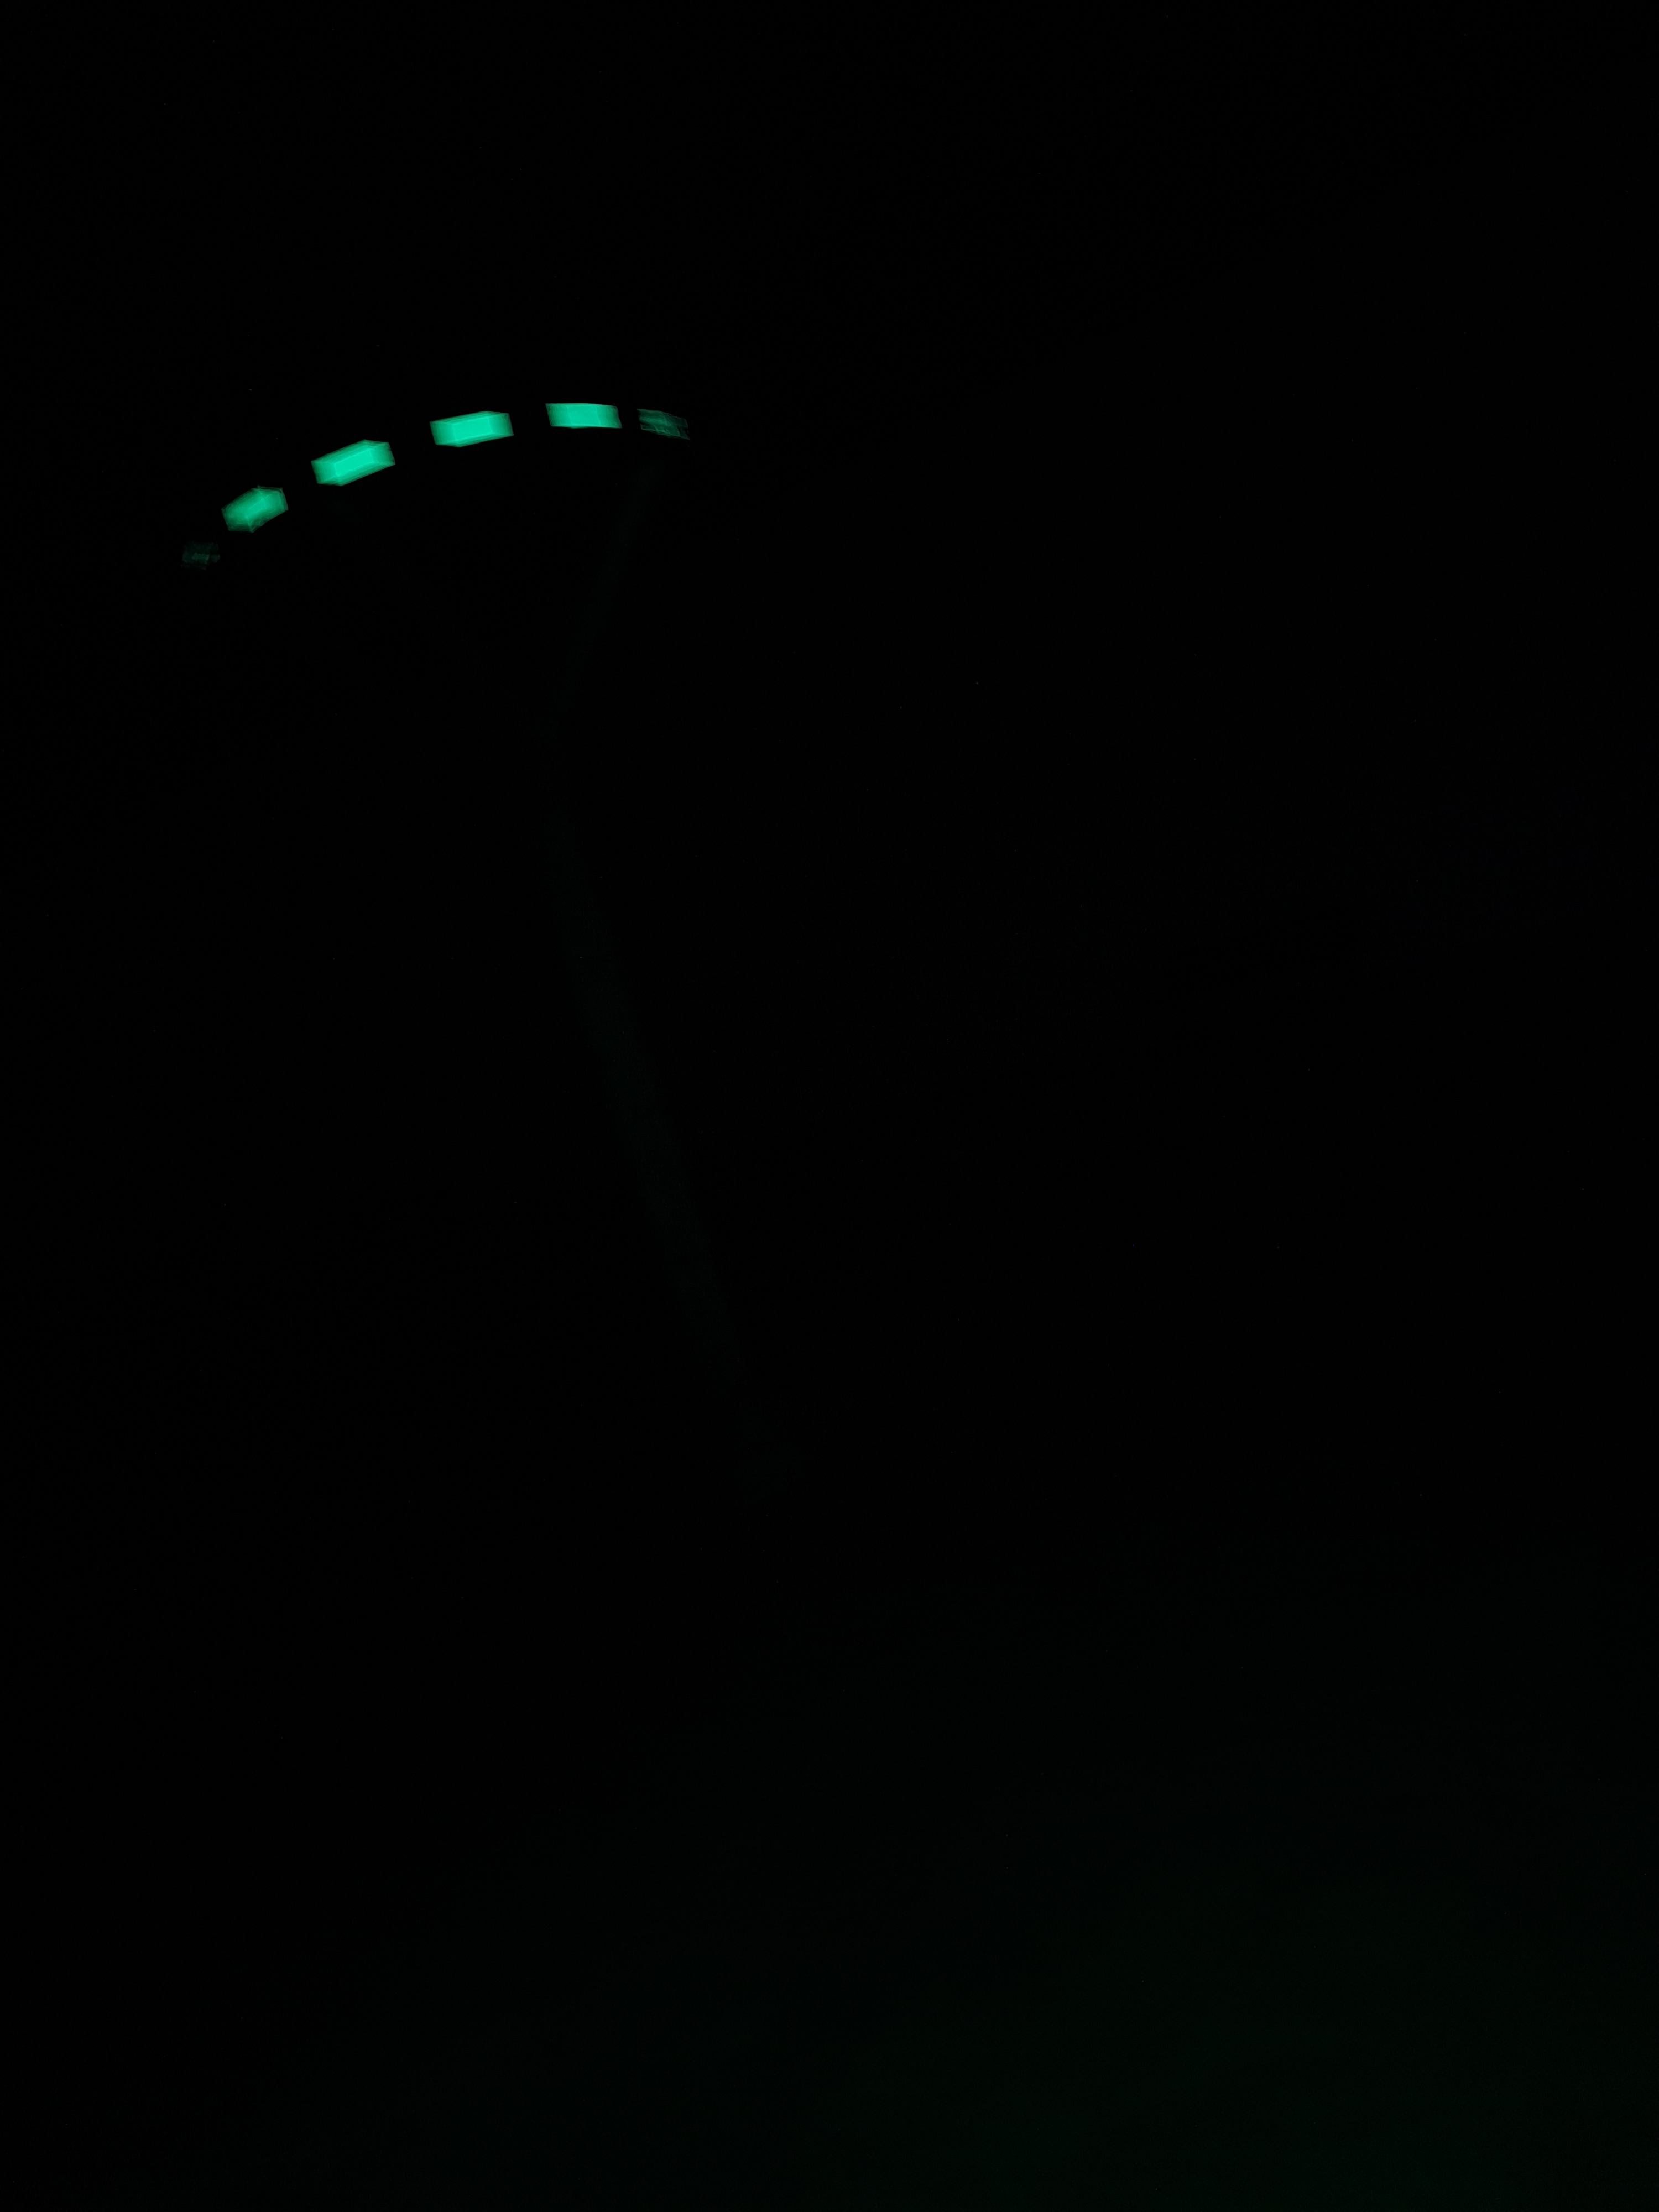hoop: (211, 402, 687, 538)
